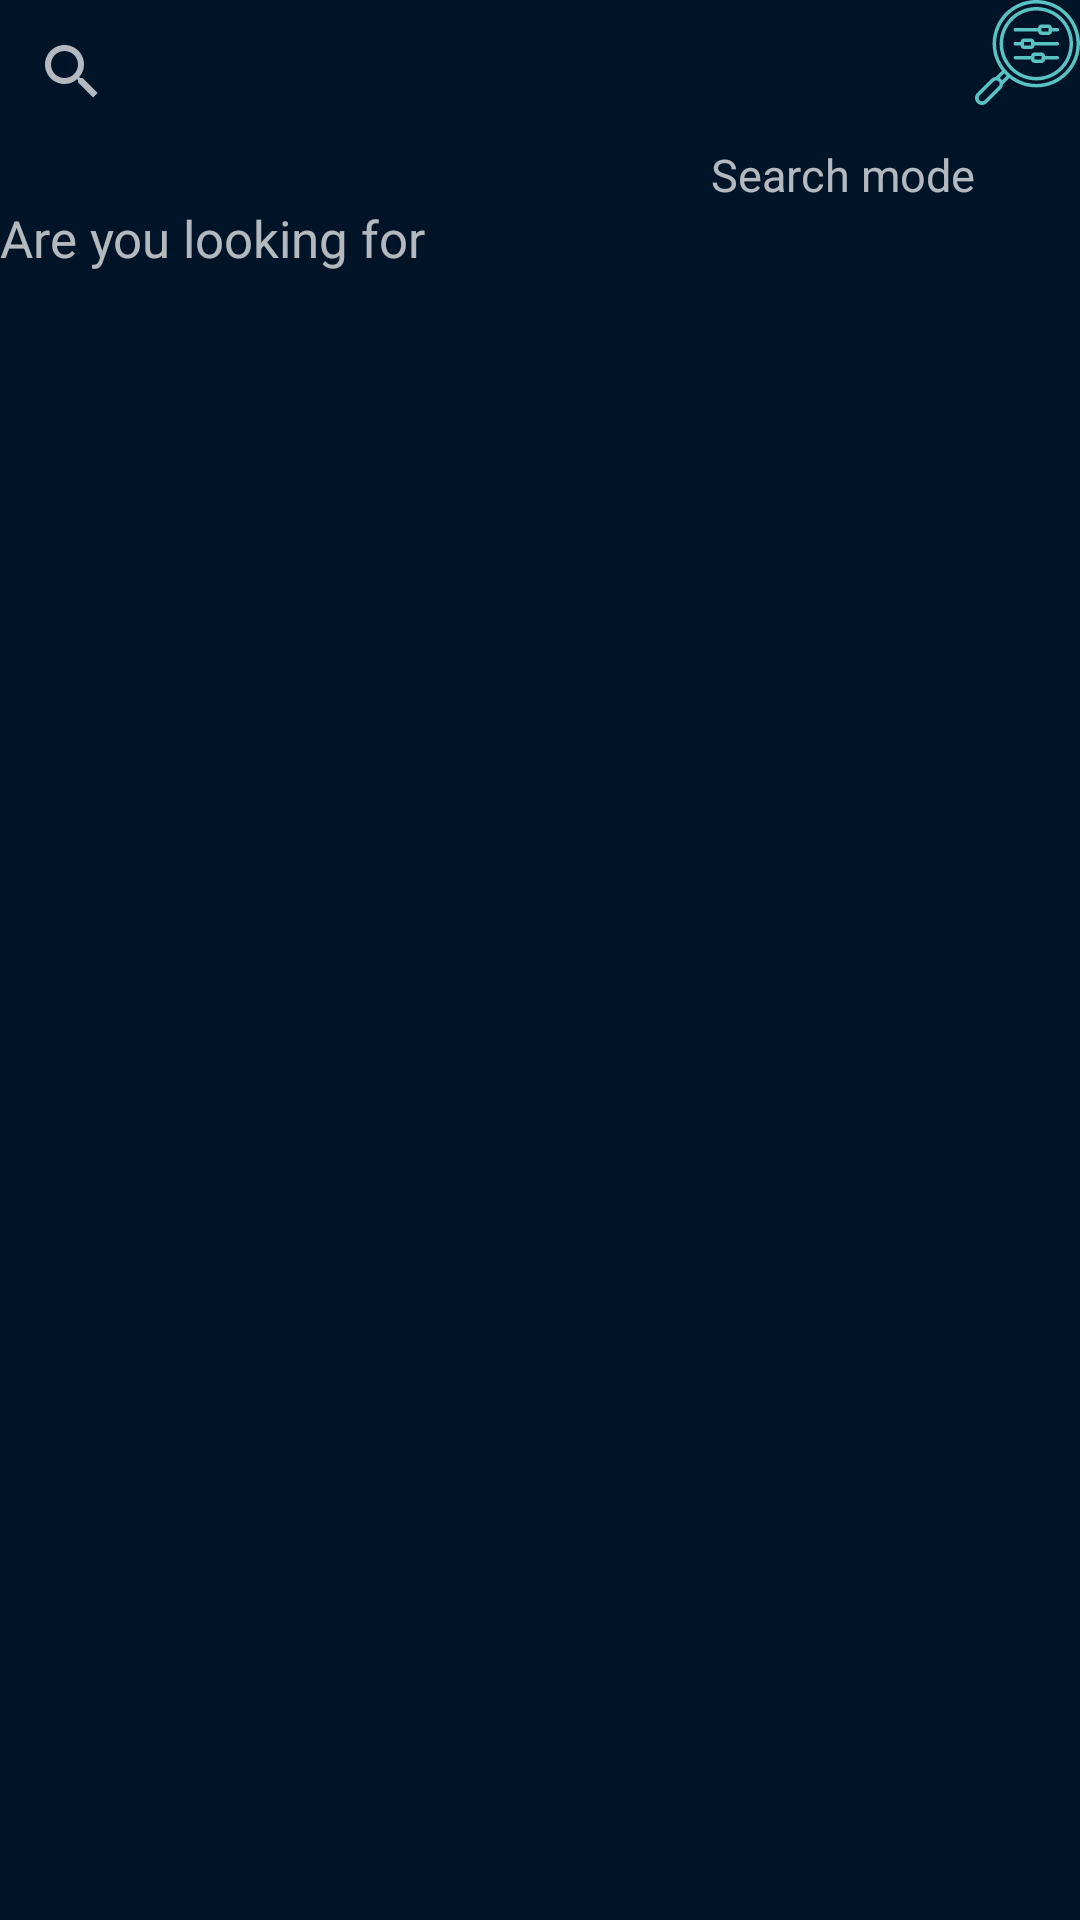

Icons on this 1080w x 1920h Android screen, each with its box as bbox=[x1, y1, x2, y2]:
popup filter: bbox=[975, 0, 1080, 105]
